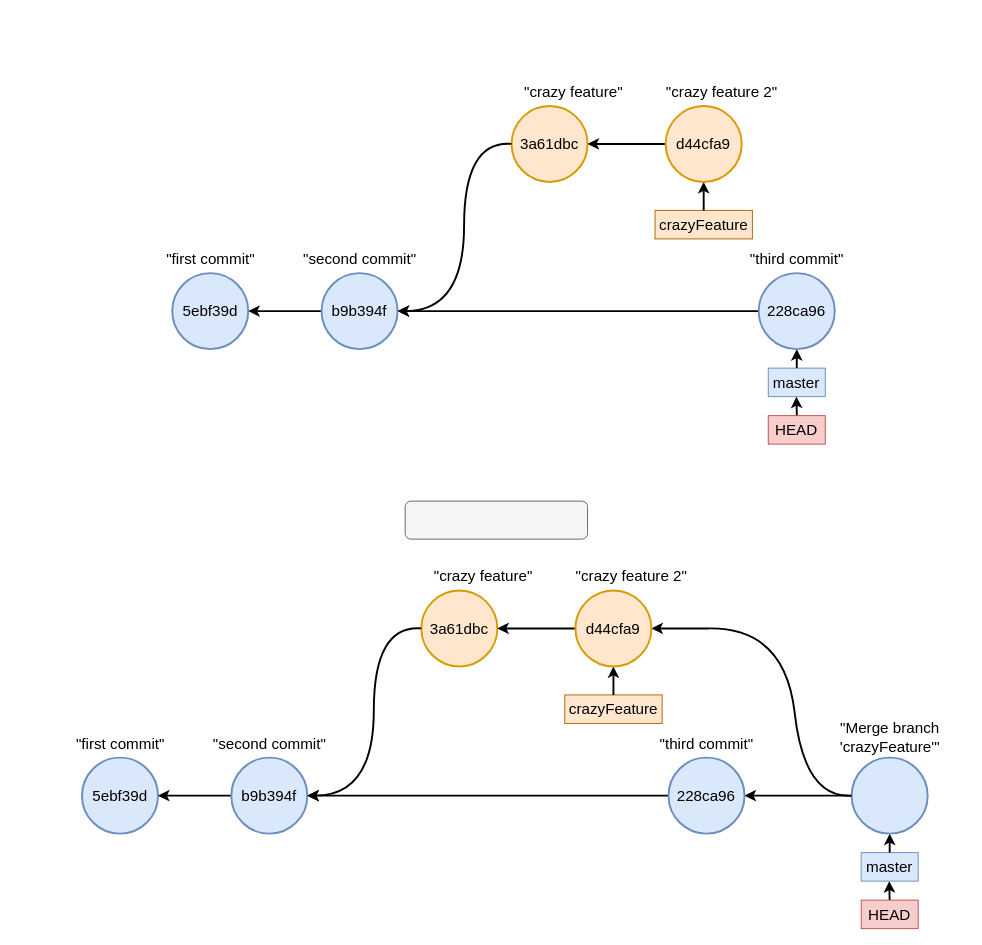
Some shapes in this 982 by 945 pixel diagram are drawn without their labels. The box of each missing label's shape, as (x1, y1, x2, y2) in pixels:
527e077: (850, 756, 928, 834)
git merge crazyFeature: (404, 500, 588, 539)
